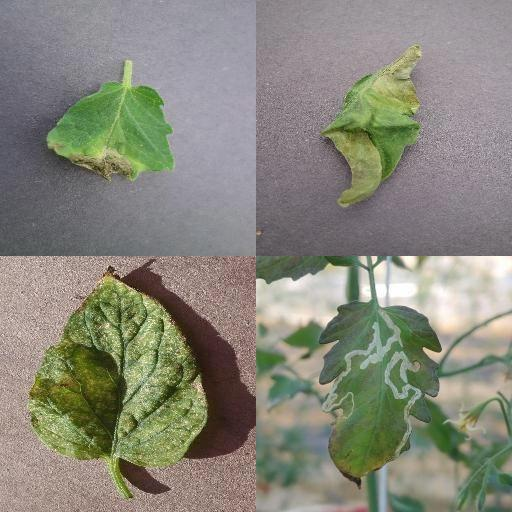Late Blight: (319, 45, 421, 209), (48, 81, 176, 185)
Leaf Miner: (318, 299, 444, 492)
Spider Mites: (28, 271, 207, 467)
